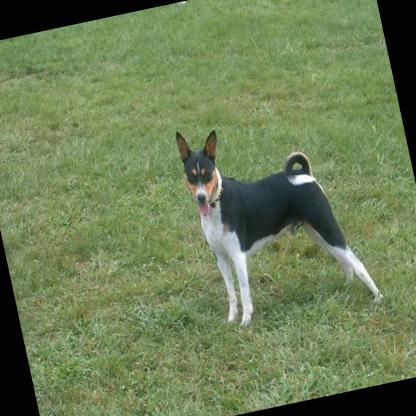basenji: (171, 96, 379, 335)
